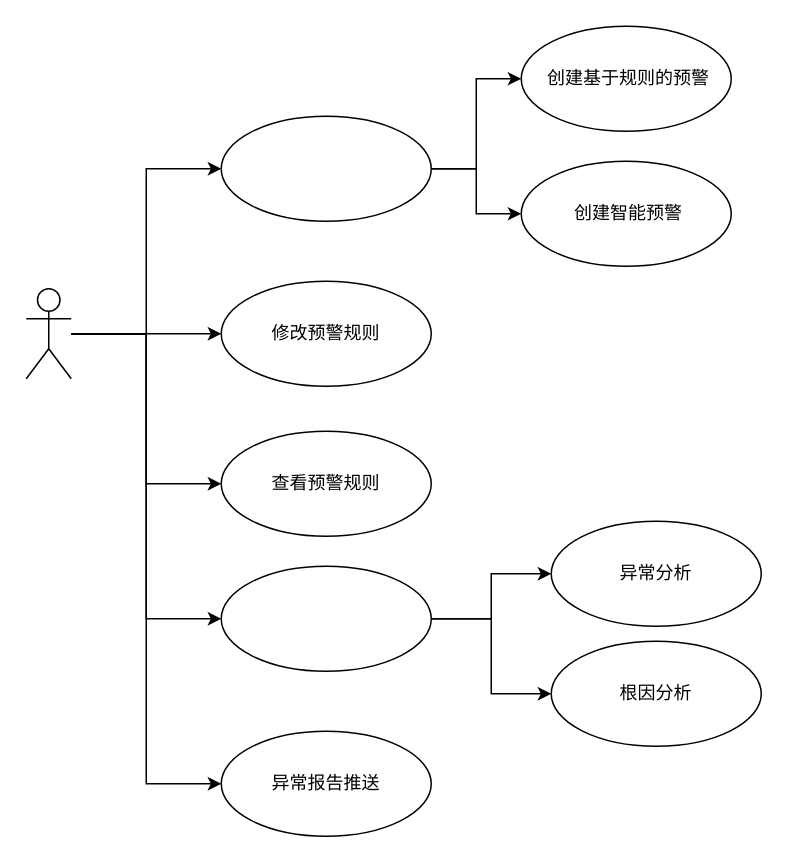
The diagram is 788 pixels wide and 863 high, and some of its shapes have lost their labels. Each missing label, with the centre of its shape:
Actor: point (48, 333)
创建预警规则: point (325, 168)
预警自动分析: point (325, 618)
